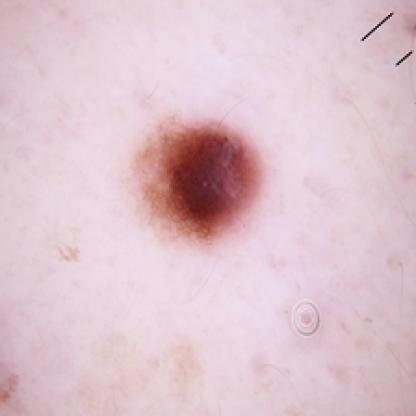benign: (134, 119, 278, 239)
